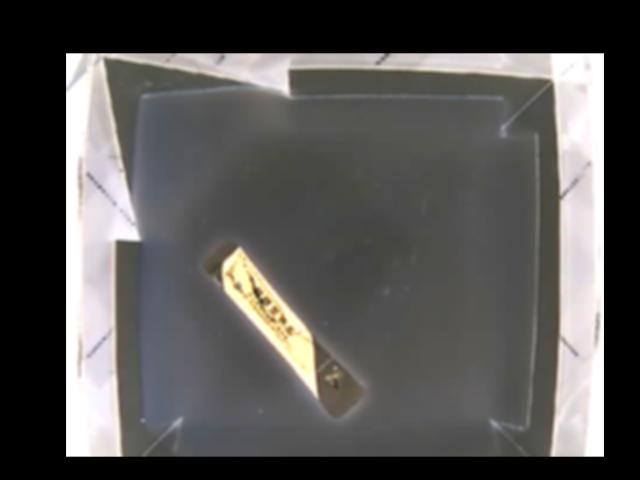Medicine: (203, 243, 365, 418)
